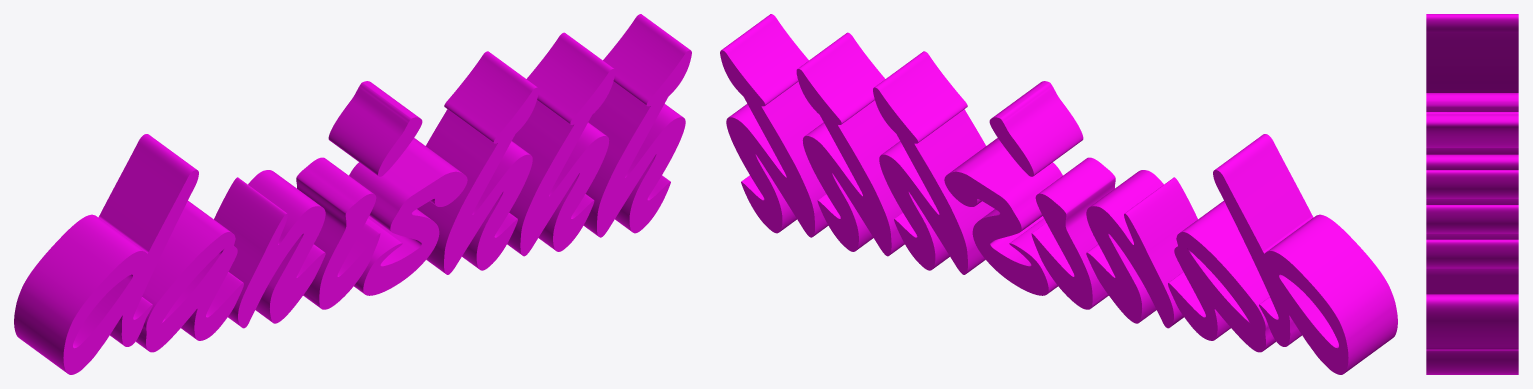
The picture shows the model from 3 angles, left to right: view 1: azimuth 30°, elevation 25°; view 2: azimuth 150°, elevation 25°; view 3: azimuth 270°, elevation 25°; orthographic projection. The views are drawn at different scales.
Parts seen in each view (by area): view 1: danishhh; view 2: danishhh; view 3: danishhh.
Boxes of the visible parts, left/top/right/bottom form: danishhh: left=14, top=14, right=691, bottom=374; danishhh: left=720, top=14, right=1397, bottom=374; danishhh: left=1426, top=14, right=1518, bottom=374.
Size of the model in its own units: 3.3 by 0.878 by 0.45.
